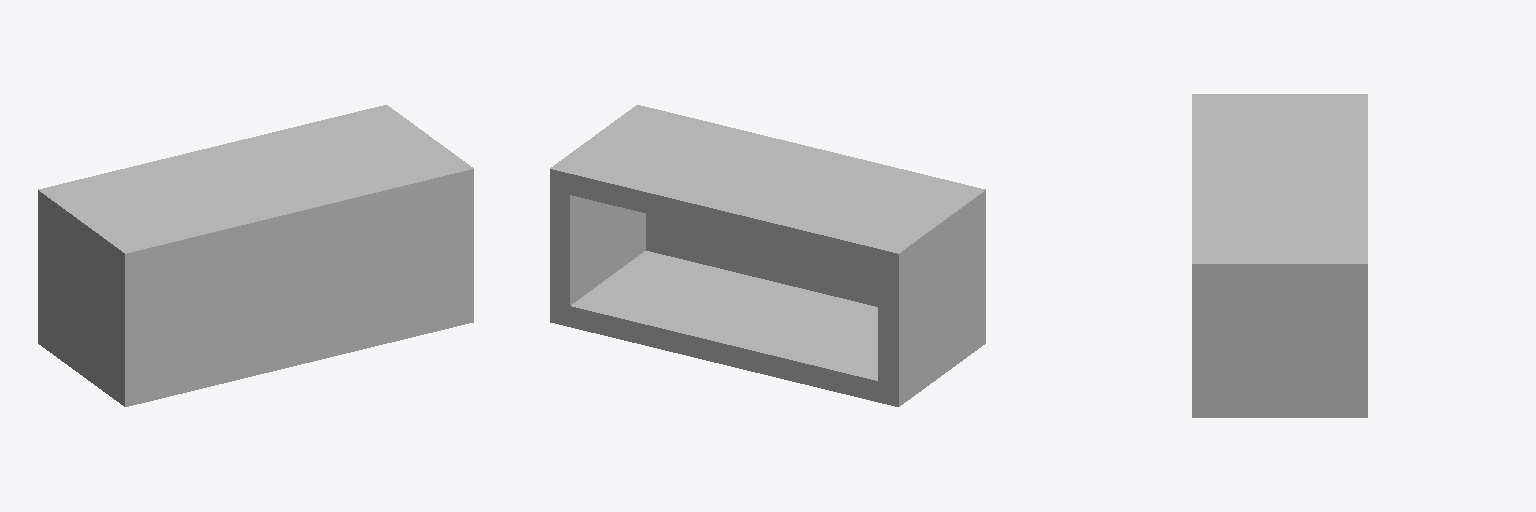
The model's file is Buoero.obj.
The picture shows the model from 3 angles: view 1: azimuth 30°, elevation 25°; view 2: azimuth 150°, elevation 25°; view 3: azimuth 270°, elevation 25°; orthographic projection.
Visible parts, largest first — view 1: Buoero.001_Cube.019; view 2: Buoero.001_Cube.019; view 3: Buoero.001_Cube.019.
Part boxes in pixels (bbox=[...]): Buoero.001_Cube.019: bbox=[38, 105, 473, 406]; Buoero.001_Cube.019: bbox=[550, 105, 985, 406]; Buoero.001_Cube.019: bbox=[1192, 94, 1367, 417].
Size of the model in its own units: 6.9 by 2.9 by 3.